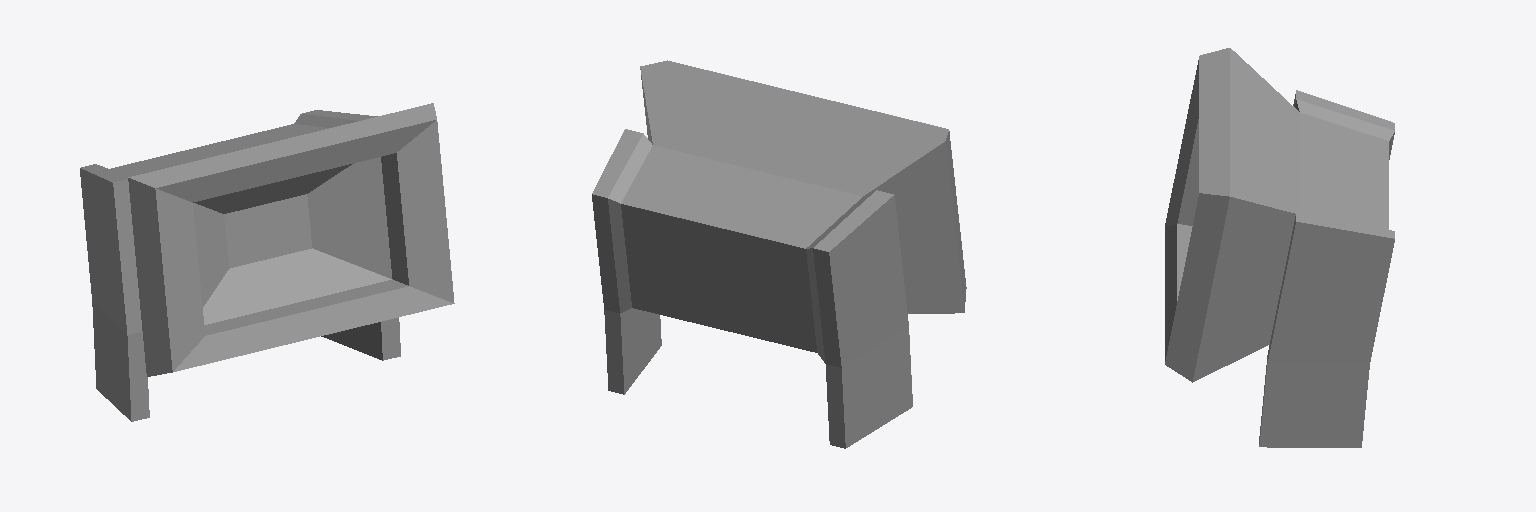
The model's file is light-shine.obj.
3 views of the same model, side by side, from view 1: azimuth 30°, elevation 25°; view 2: azimuth 150°, elevation 25°; view 3: azimuth 270°, elevation 25° (orthographic).
Visible parts, largest first — view 1: Cube.042_Cube.052; view 2: Cube.042_Cube.052; view 3: Cube.042_Cube.052.
Part boxes in pixels (x1,y1,x2,y2): Cube.042_Cube.052: (80, 103, 454, 421); Cube.042_Cube.052: (592, 60, 966, 448); Cube.042_Cube.052: (1165, 48, 1394, 447).
Bounding box in the file's own units: 1.38 × 1.16 × 0.9012.